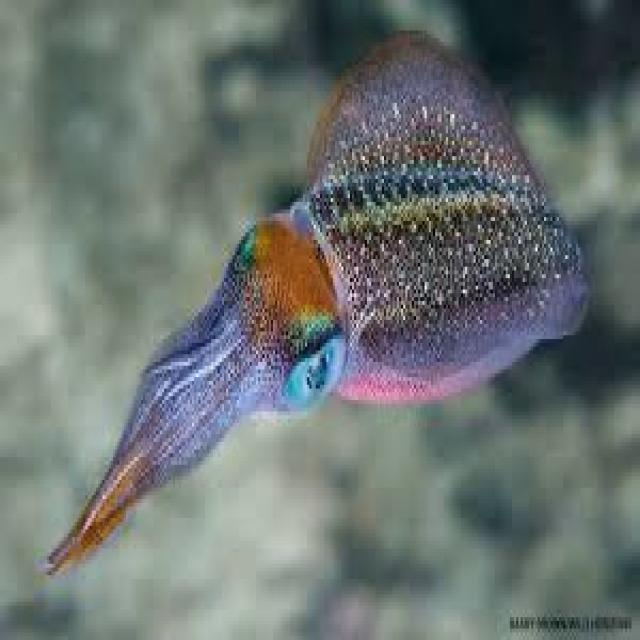squid: (41, 30, 587, 571)
